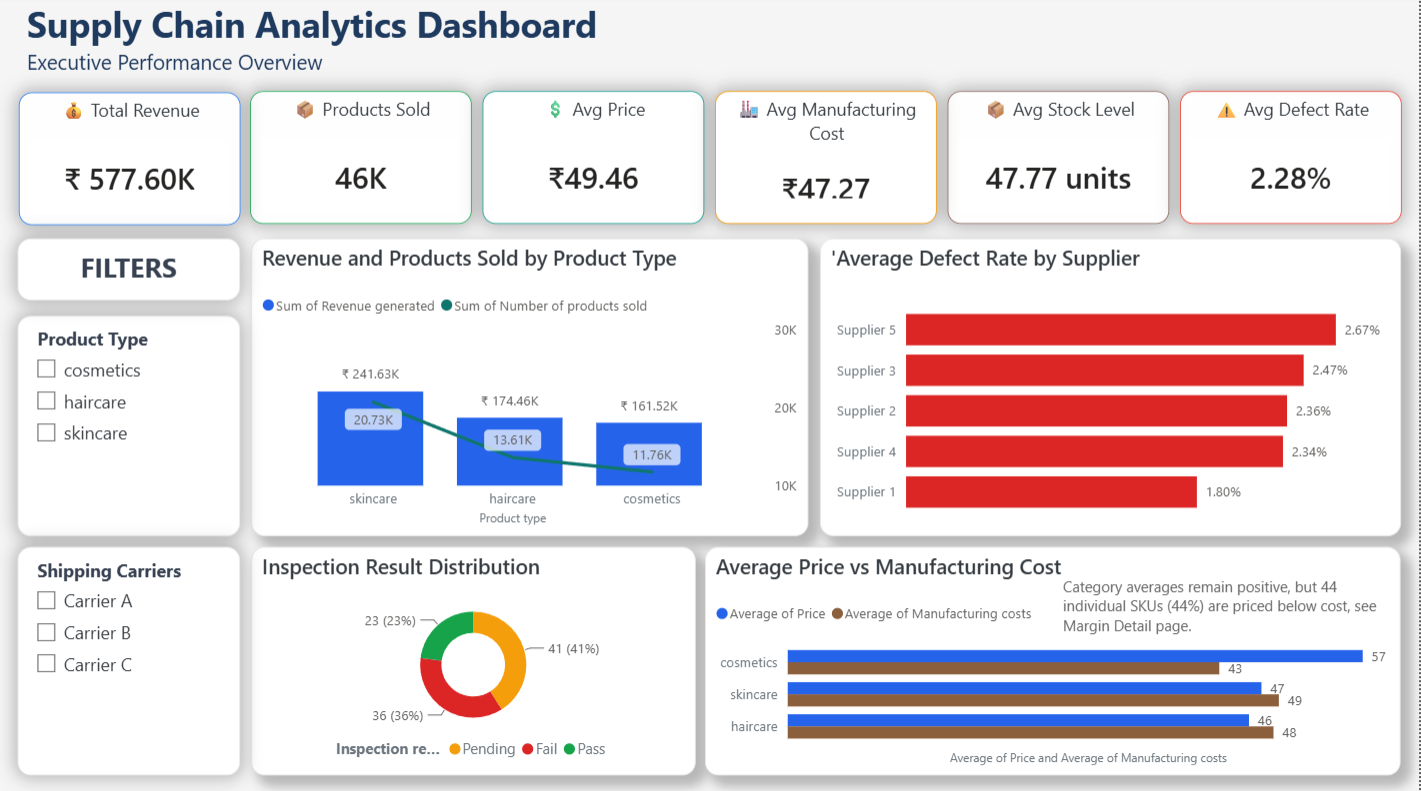

This screenshot's page, from the dashboard's own definition file:
{"tool":"powerbi","page":{"name":"Executive Supply Chain Dashboard","canvas":[1280,720],"ordinal":0},"visuals":[{"type":"textbox","box":[19.2,0,546.1,86.4],"z":0},{"type":"cardVisual","title":"📦 Products Sold","fields":{"Data":["Supply_chain__data.Total Products Sold"]},"box":[225.9,86.4,200,120],"z":1000},{"type":"cardVisual","title":"💰 Total Revenue","fields":{"Data":["Supply_chain__data.Total Revenue"]},"box":[16.5,87.8,200,120],"z":2000},{"type":"cardVisual","title":"📦 Avg Stock Level","fields":{"Data":["Supply_chain__data.Average Stock Level"]},"box":[854.1,86.4,200,120],"z":3000},{"type":"cardVisual","title":"💲 Avg Price","fields":{"Data":["Supply_chain__data.Average Price"]},"box":[435.3,86.4,200,120],"z":4000},{"type":"cardVisual","title":"🏭 Avg Manufacturing Cost","fields":{"Data":["Supply_chain__data.Average Manufacturing Cost"]},"box":[644.7,86.4,200,120],"z":5000},{"type":"cardVisual","title":"⚠️ Avg Defect Rate","fields":{"Data":["Supply_chain__data.Average Defect Rate"]},"box":[1063.5,86.4,200,120],"z":6000},{"type":"lineClusteredColumnComboChart","title":"Revenue and Products Sold by Product Type","fields":{"Category":["Supply_chain__data.Product type"],"Y":["Sum(Supply_chain__data.Revenue generated)"],"Y2":["Sum(Supply_chain__data.Number of products sold)"]},"box":[226.4,219.6,502.2,269],"z":7000},{"type":"clusteredBarChart","title":"''Average Defect Rate by Supplier","fields":{"Category":["Supply_chain__data.Supplier name"],"Y":["Supply_chain__data.Avg Defect Rate"]},"box":[739.6,219.6,524.2,269],"z":8000},{"type":"donutChart","title":"Inspection Result Distribution","fields":{"Category":["Supply_chain__data.Inspection results"],"Y":["CountNonNull(Supply_chain__data.Inspection results)"]},"box":[226.2,497.7,401.1,206.7],"z":9000},{"type":"clusteredBarChart","title":"Average Price vs Manufacturing Cost","fields":{"Category":["Supply_chain__data.Product type"],"Y":["Avg(Supply_chain__data.Price)","Avg(Supply_chain__data.Manufacturing costs)"]},"box":[635.9,497.7,627.3,206.7],"z":10000},{"type":"slicer","fields":{"Values":["Supply_chain__data.Product type"]},"box":[15.9,289.8,200.5,199.3],"z":11000},{"type":"slicer","fields":{"Values":["Supply_chain__data.Shipping carriers"]},"box":[15.9,497.7,200.5,206.7],"z":12000},{"type":"textbox","box":[953.8,519.7,299.6,64.8],"z":13000},{"type":"textbox","box":[15.9,220.1,200.5,56.3],"z":14000}]}

Visuals, with their boxes in screenshot pixels (x1, y1, x2, y2), scaled from the page's 1280x720 canvas onto the 1421x791 screenshot:
textbox: detection(21, 0, 628, 95)
"📦 Products Sold" cardVisual: detection(251, 95, 473, 227)
"💰 Total Revenue" cardVisual: detection(18, 96, 240, 228)
"📦 Avg Stock Level" cardVisual: detection(948, 95, 1170, 227)
"💲 Avg Price" cardVisual: detection(483, 95, 705, 227)
"🏭 Avg Manufacturing Cost" cardVisual: detection(716, 95, 938, 227)
"⚠️ Avg Defect Rate" cardVisual: detection(1181, 95, 1403, 227)
"Revenue and Products Sold by Product Type" lineClusteredColumnComboChart: detection(251, 241, 809, 537)
"''Average Defect Rate by Supplier" clusteredBarChart: detection(821, 241, 1403, 537)
"Inspection Result Distribution" donutChart: detection(251, 547, 696, 774)
"Average Price vs Manufacturing Cost" clusteredBarChart: detection(706, 547, 1402, 774)
slicer - Supply_chain__data.Product type: detection(18, 318, 240, 537)
slicer - Supply_chain__data.Shipping carriers: detection(18, 547, 240, 774)
textbox: detection(1059, 571, 1391, 642)
textbox: detection(18, 242, 240, 304)
